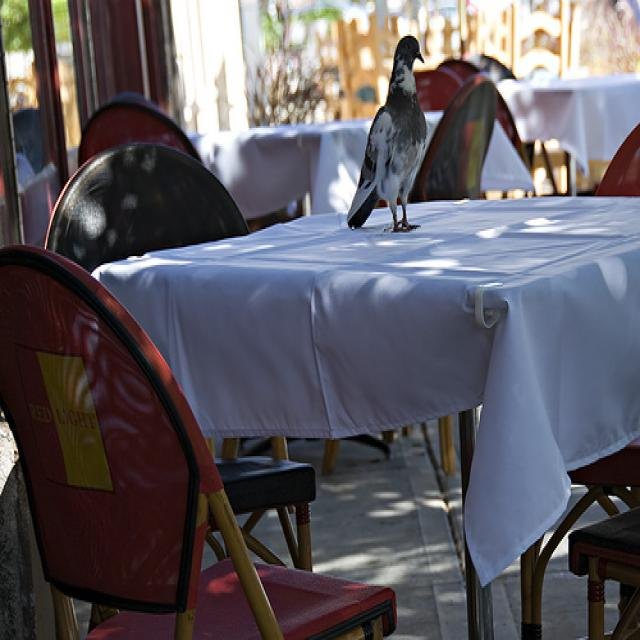chair: (2, 254, 397, 633), (43, 143, 251, 274), (521, 434, 640, 640), (434, 59, 535, 180), (213, 454, 320, 568), (411, 78, 498, 204), (75, 98, 208, 165), (597, 122, 640, 198), (413, 70, 462, 115)
dining table: (93, 197, 640, 630), (500, 69, 640, 99)
